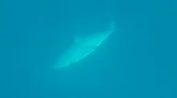Bangus: (50, 18, 117, 72)
